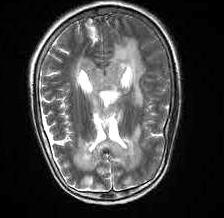Normal_Brain: (12, 1, 224, 218)
